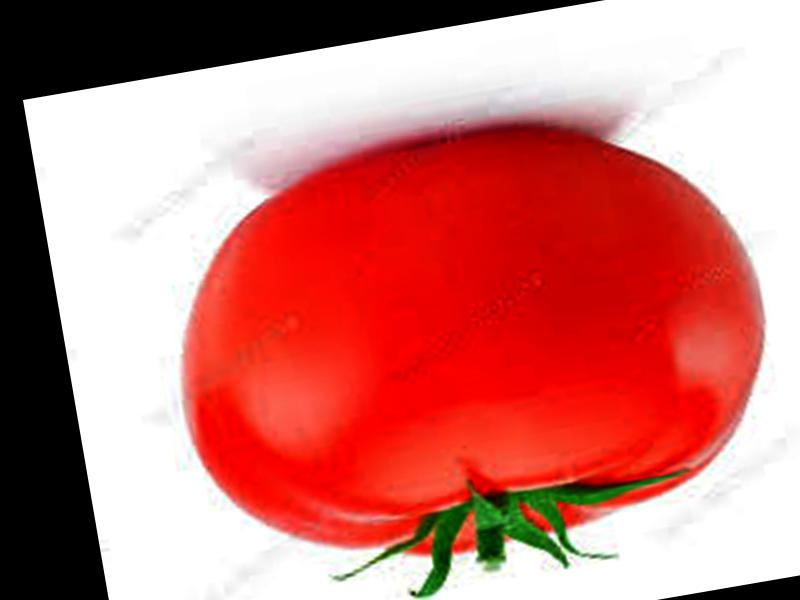Tomato: (149, 101, 794, 592)
